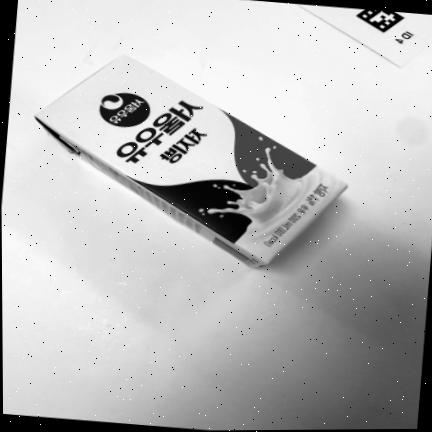milk_blue: (36, 56, 347, 268)
